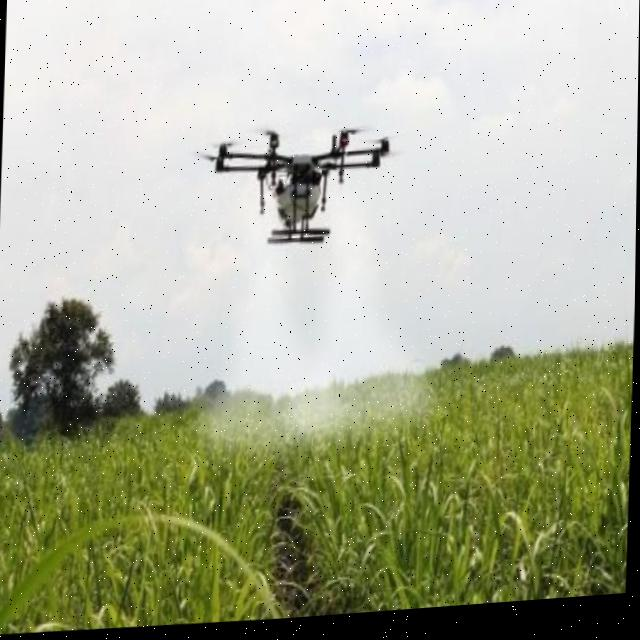drones: (176, 86, 417, 296)
